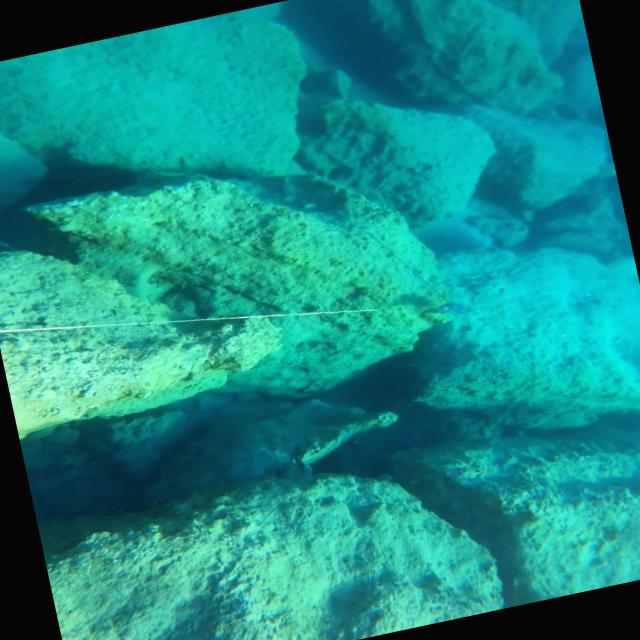Balon Baligi: (420, 298, 470, 322)
